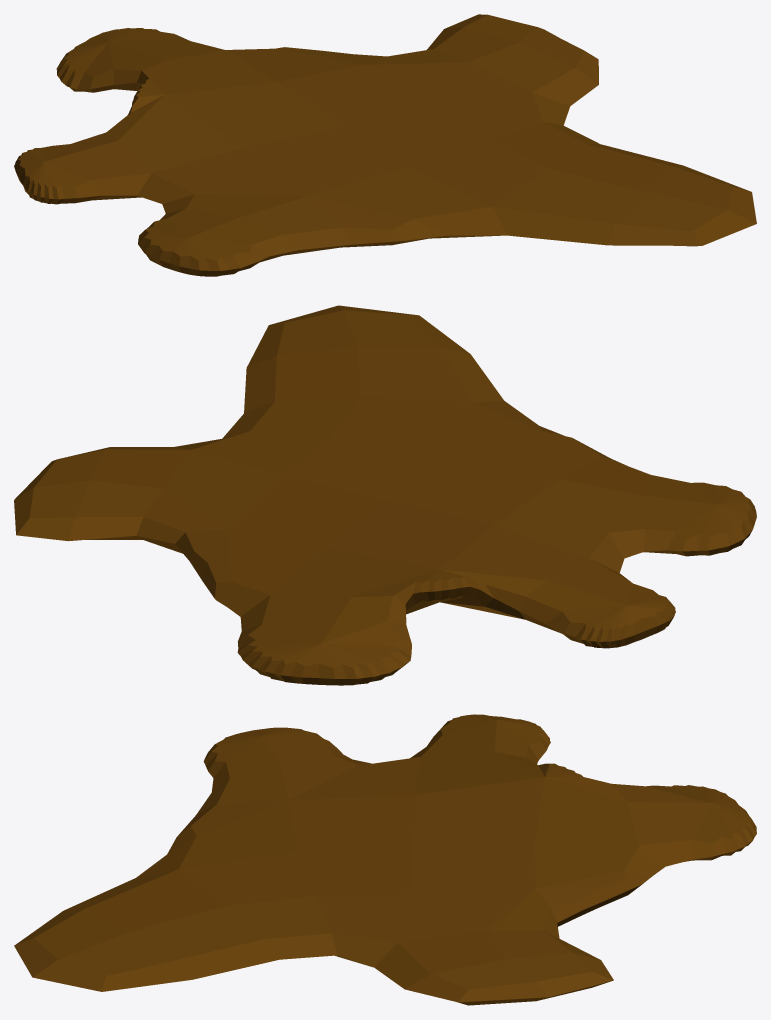
The model's file is kir.fbx.
3 views of the same model, one above another, from view 1: azimuth 30°, elevation 25°; view 2: azimuth 150°, elevation 25°; view 3: azimuth 270°, elevation 25° (orthographic). The views are drawn at different scales.
Parts seen in each view (by area): view 1: Cube; view 2: Cube; view 3: Cube.
Boxes of the visible parts, left/top/right/bottom form: Cube: left=14, top=14, right=756, bottom=276; Cube: left=14, top=305, right=756, bottom=685; Cube: left=14, top=714, right=756, bottom=1005.
Size of the model in its own units: 265 by 20.91 by 296.
